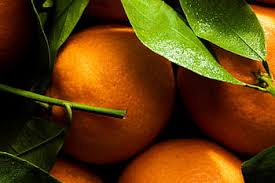orange: (38, 24, 177, 158), (173, 4, 275, 148)
